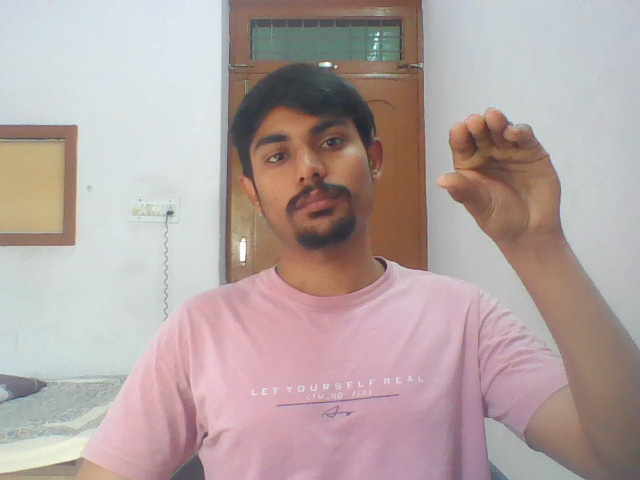No: (425, 99, 571, 242)
